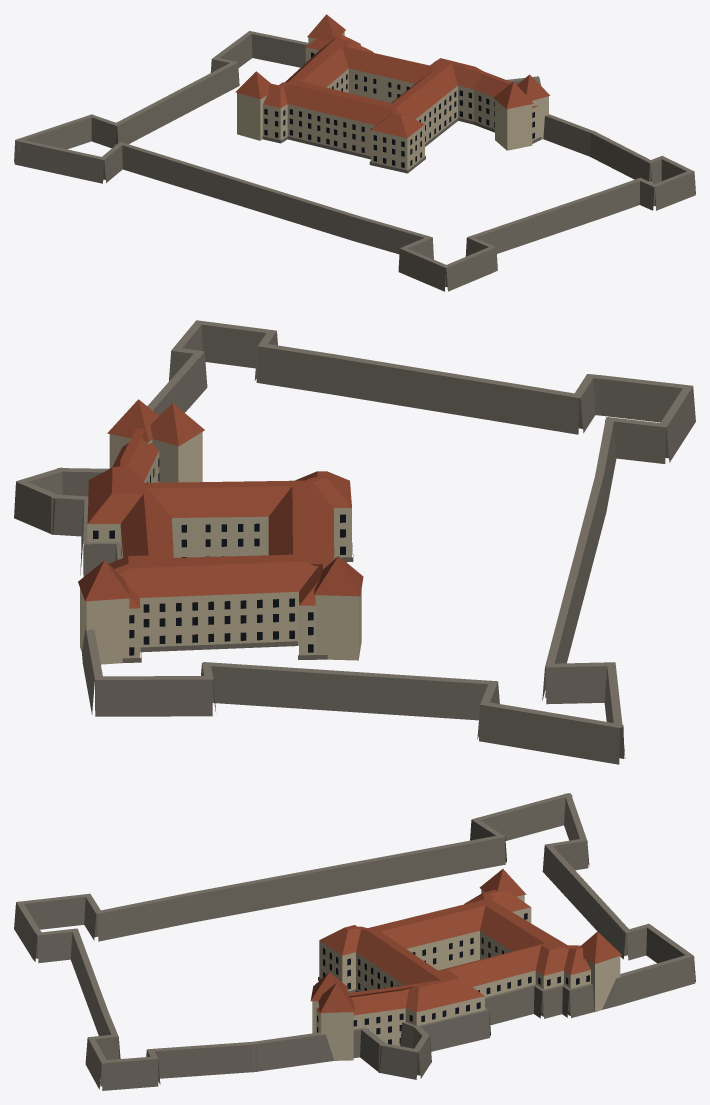
The model's file is castle-lo.glb.
The picture shows the model from 3 angles, top to bottom: view 1: azimuth 30°, elevation 25°; view 2: azimuth 150°, elevation 25°; view 3: azimuth 270°, elevation 25°; orthographic projection. The views are drawn at different scales.
Parts seen in each view (by area): view 1: lm-castle; view 2: lm-castle; view 3: lm-castle.
Part boxes in pixels (x1=…): lm-castle: x1=14, y1=14, x2=695, y2=291; lm-castle: x1=14, y1=320, x2=695, y2=764; lm-castle: x1=14, y1=793, x2=695, y2=1090.
Bounding box in the file's own units: 179 × 21.89 × 190.
